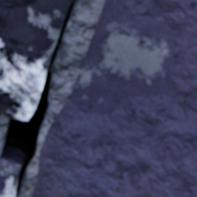brick: (32, 0, 196, 196), (0, 0, 72, 119), (0, 157, 21, 196)
crack: (0, 0, 74, 194)
